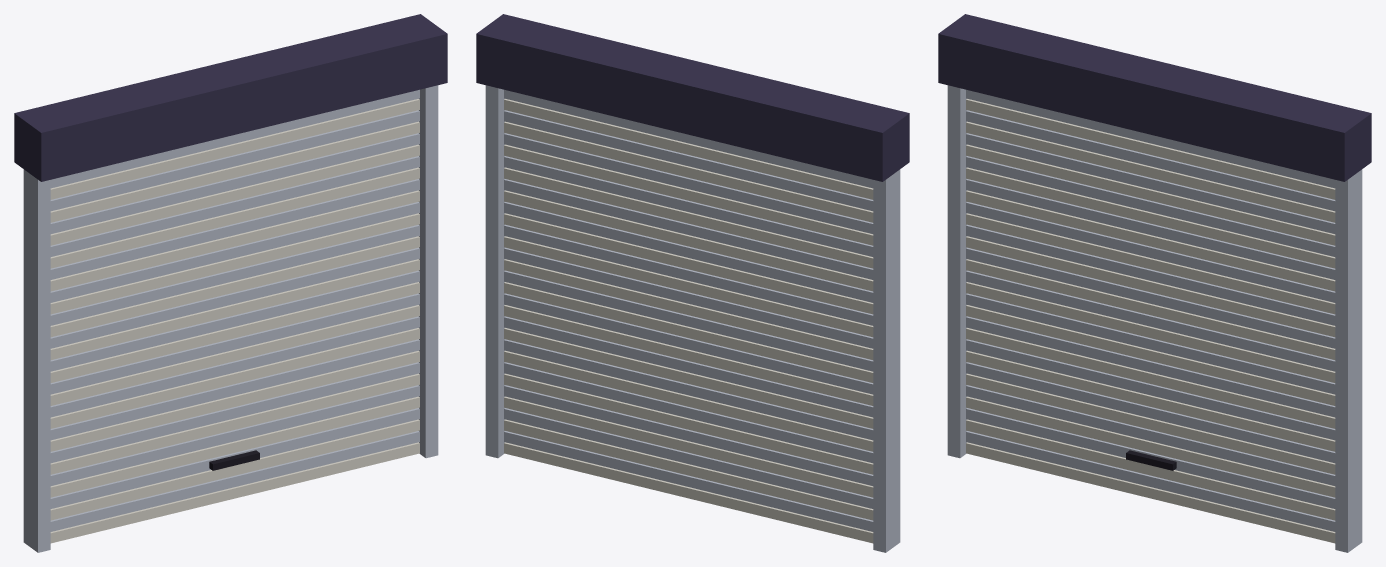
File: saracinesca.glb
3 views of the same model, side by side, from view 1: azimuth 30°, elevation 25°; view 2: azimuth 150°, elevation 25°; view 3: azimuth 330°, elevation 25° (orthographic).
Parts seen in each view (by area): view 1: cassonetto, guida, guida.001, lamella, lamella.005, lamella.006, lamella.007, lamella.011, lamella.016, lamella.017, lamella.022, lamella.026 (+24 smaller); view 2: cassonetto, guida, guida.001, lamella, lamella.005, lamella.006, lamella.007, lamella.011, lamella.016, lamella.017, lamella.022, lamella.026 (+23 smaller); view 3: cassonetto, guida.001, guida, lamella, lamella.005, lamella.006, lamella.007, lamella.011, lamella.016, lamella.017, lamella.022, lamella.026 (+24 smaller).
Boxes of the visible parts, box(x1,y1,x2,y2) form: cassonetto: box(14, 14, 447, 181); guida: box(23, 169, 50, 552); guida.001: box(419, 85, 438, 458); lamella: box(50, 442, 419, 543); lamella.005: box(50, 385, 419, 485); lamella.006: box(50, 373, 419, 474); lamella.007: box(50, 362, 419, 463); lamella.011: box(50, 316, 419, 417); lamella.016: box(50, 259, 419, 359); lamella.017: box(50, 247, 419, 348); lamella.022: box(50, 190, 419, 291); lamella.026: box(50, 144, 419, 245); cassonetto: box(476, 14, 909, 181); guida: box(873, 169, 900, 552); guida.001: box(485, 85, 504, 458); lamella: box(504, 442, 873, 543); lamella.005: box(504, 385, 873, 485); lamella.006: box(504, 373, 873, 474); lamella.007: box(504, 362, 873, 463); lamella.011: box(504, 316, 873, 417); lamella.016: box(504, 259, 873, 359); lamella.017: box(504, 247, 873, 348); lamella.022: box(504, 190, 873, 291); lamella.026: box(504, 144, 873, 245); cassonetto: box(938, 14, 1371, 181); guida.001: box(1335, 169, 1362, 552); guida: box(947, 85, 966, 458); lamella: box(966, 442, 1335, 543); lamella.005: box(966, 385, 1335, 485); lamella.006: box(966, 373, 1335, 474); lamella.007: box(966, 362, 1335, 463); lamella.011: box(966, 316, 1335, 417); lamella.016: box(966, 259, 1335, 359); lamella.017: box(966, 247, 1335, 348); lamella.022: box(966, 190, 1335, 291); lamella.026: box(966, 144, 1335, 245).
Size of the model in its own units: 2.6 by 2.6 by 0.3.
